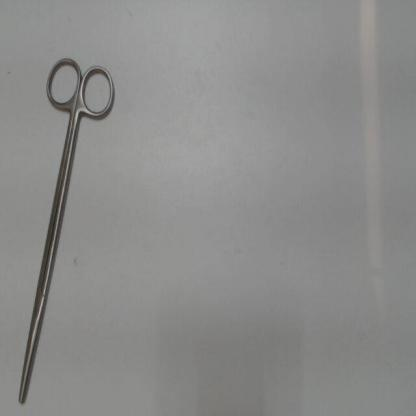9 Metzenbaum Scissors: (15, 53, 122, 408)
